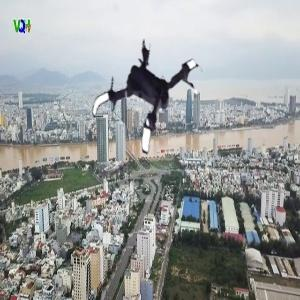drone: (87, 27, 217, 157)
